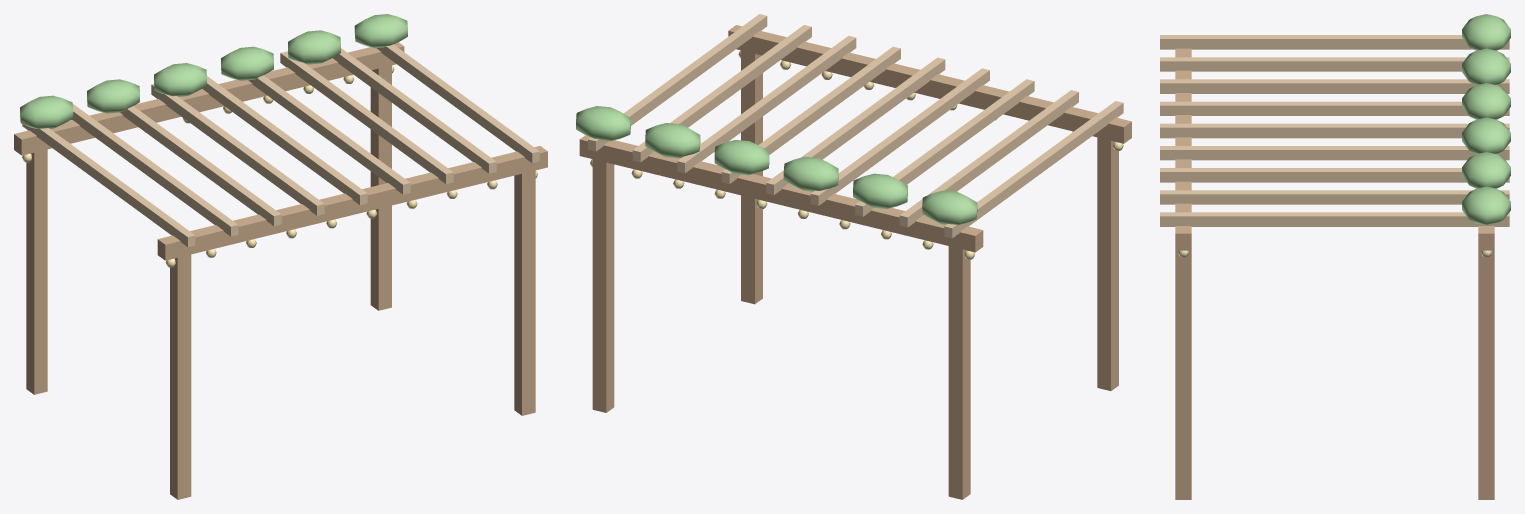
File: pergolado.glb
3 views of the same model, side by side, from view 1: azimuth 30°, elevation 25°; view 2: azimuth 150°, elevation 25°; view 3: azimuth 270°, elevation 25° (orthographic). The views are drawn at different scales.
Visible parts, largest first — view 1: pergolado; view 2: pergolado; view 3: pergolado.
Boxes of the visible parts, x1,y1,x2,y2 form: pergolado: (14,14,547,499); pergolado: (576,14,1131,499); pergolado: (1160,14,1510,499).
Bounding box in the file's own units: 4.07 × 2.88 × 3.01.
